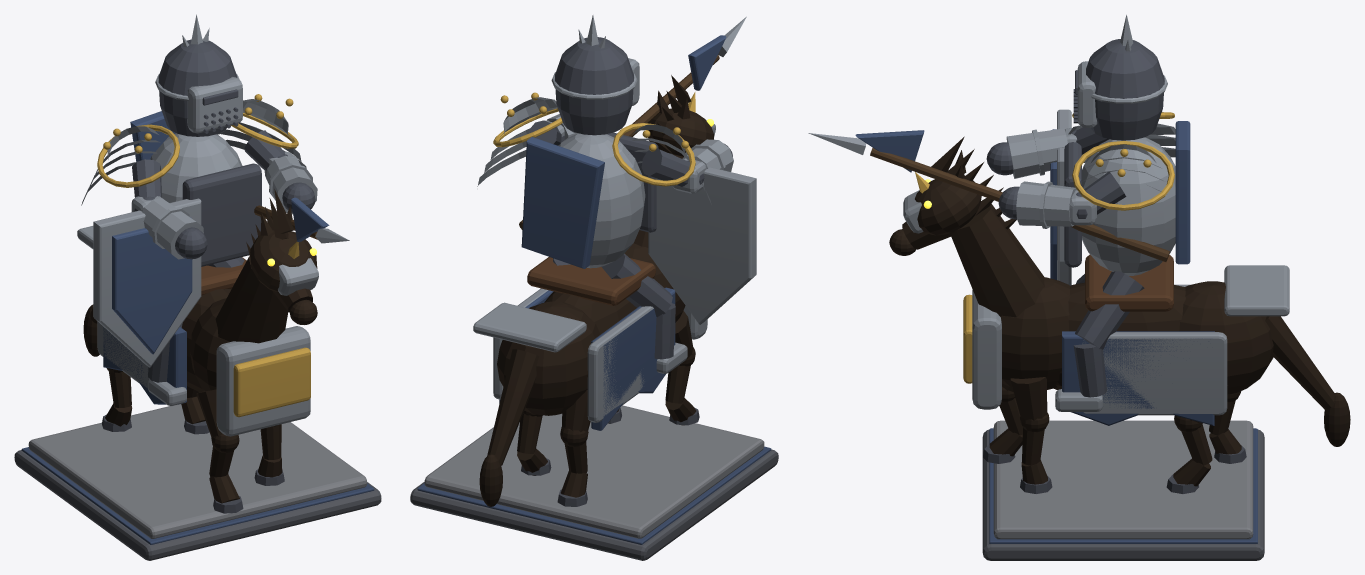
Rendered from heavy_cavalry.glb.
3 renders of one model, left to right at view 1: azimuth 30°, elevation 25°; view 2: azimuth 150°, elevation 25°; view 3: azimuth 270°, elevation 25°, orthographic. The views are drawn at different scales.
Visible parts, largest first — view 1: steel, lstone, horse2, dark, owner, brass, stone, leather; view 2: steel, lstone, horse2, owner, dark, stone, leather, brass, dwood; view 3: steel, horse2, lstone, dark, owner, stone, leather, brass, dwood.
Part boxes in pixels (x1,y1,x2,y2): steel: [77, 14, 349, 436]; lstone: [28, 404, 367, 538]; horse2: [83, 189, 317, 503]; dark: [102, 39, 315, 513]; owner: [21, 111, 374, 544]; brass: [97, 94, 310, 417]; stone: [14, 450, 381, 560]; leather: [201, 257, 246, 295]; steel: [473, 15, 756, 422]; lstone: [424, 405, 764, 538]; horse2: [479, 75, 714, 506]; owner: [417, 35, 771, 544]; dark: [521, 37, 732, 506]; stone: [410, 449, 778, 560]; leather: [527, 257, 655, 305]; brass: [493, 92, 695, 186]; dwood: [519, 55, 719, 229]; steel: [808, 15, 1289, 415]; horse2: [889, 136, 1350, 486]; lstone: [993, 420, 1253, 539]; dark: [983, 39, 1246, 493]; owner: [855, 121, 1257, 543]; stone: [982, 429, 1264, 560]; leather: [1085, 254, 1173, 311]; brass: [915, 112, 1174, 383]; dwood: [870, 148, 1169, 261].
Size of the model in its own units: 0.8225 by 1.49 by 1.5.
